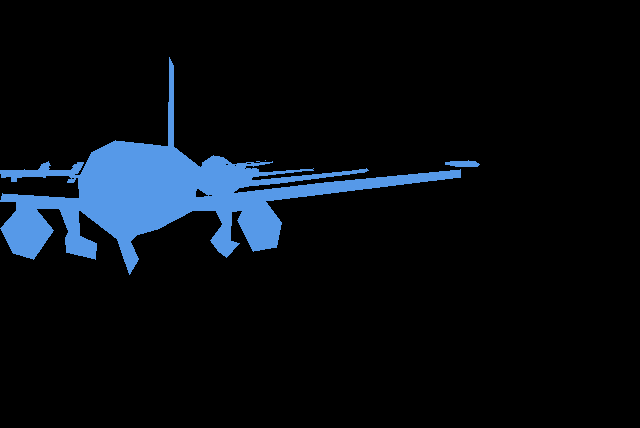Airplane: (0, 57, 460, 275), (196, 155, 369, 195), (0, 161, 83, 183), (234, 161, 313, 178), (445, 160, 479, 166)
